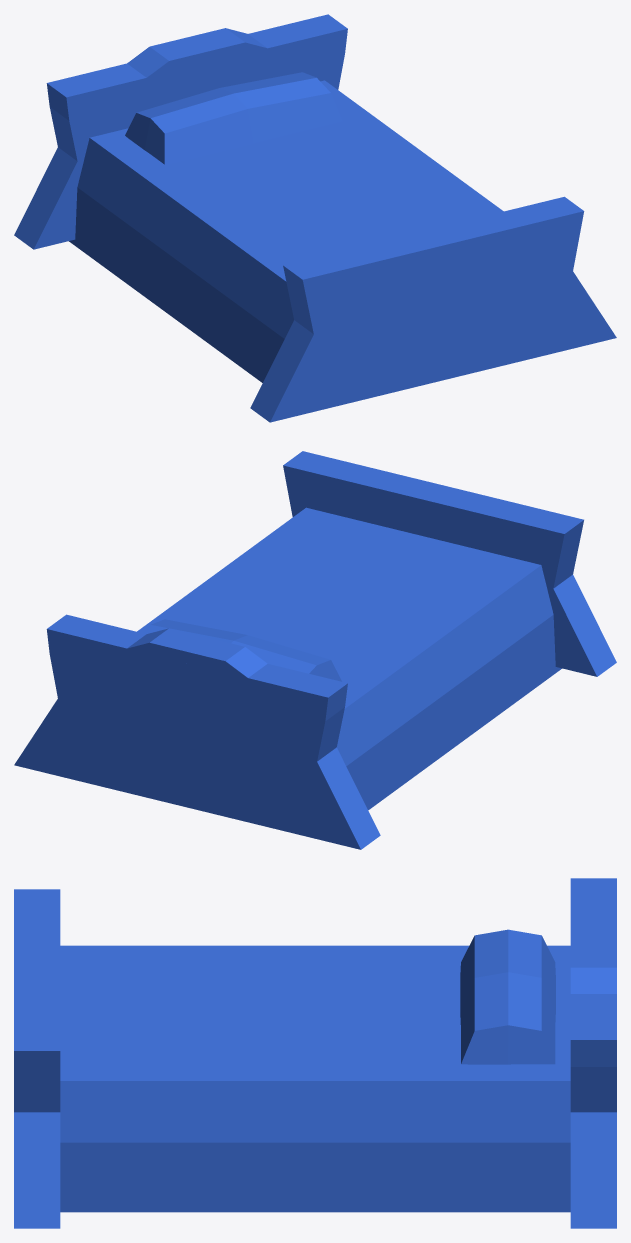
The model's file is Collision_Bed_Twin1.fbx.
3 renders of one model, top to bottom at view 1: azimuth 30°, elevation 25°; view 2: azimuth 150°, elevation 25°; view 3: azimuth 270°, elevation 25°, orthographic. The views are drawn at different scales.
Parts seen in each view (by area): view 1: UCX_Bed_Twin1_05, UCX_Bed_Twin1_02, UCX_Bed_Twin1_01, UCX_Bed_Twin1_03, UCX_Bed_Twin1_06, UCX_Bed_Twin1_04, UCX_Bed_Twin1_07; view 2: UCX_Bed_Twin1_05, UCX_Bed_Twin1_04, UCX_Bed_Twin1_03, UCX_Bed_Twin1_01, UCX_Bed_Twin1_02, UCX_Bed_Twin1_07, UCX_Bed_Twin1_06; view 3: UCX_Bed_Twin1_05, UCX_Bed_Twin1_06, UCX_Bed_Twin1_01, UCX_Bed_Twin1_03, UCX_Bed_Twin1_02, UCX_Bed_Twin1_04, UCX_Bed_Twin1_07.
Part boxes in pixels (x1=…): UCX_Bed_Twin1_05: x1=69, y1=80, x2=503, y2=382; UCX_Bed_Twin1_02: x1=250, y1=271, x2=616, y2=422; UCX_Bed_Twin1_01: x1=283, y1=196, x2=584, y2=334; UCX_Bed_Twin1_03: x1=46, y1=14, x2=347, y2=161; UCX_Bed_Twin1_06: x1=125, y1=72, x2=342, y2=164; UCX_Bed_Twin1_04: x1=14, y1=147, x2=83, y2=249; UCX_Bed_Twin1_07: x1=127, y1=28, x2=267, y2=77; UCX_Bed_Twin1_05: x1=137, y1=507, x2=561, y2=810; UCX_Bed_Twin1_04: x1=14, y1=698, x2=380, y2=849; UCX_Bed_Twin1_03: x1=46, y1=614, x2=347, y2=761; UCX_Bed_Twin1_01: x1=283, y1=451, x2=583, y2=588; UCX_Bed_Twin1_02: x1=547, y1=574, x2=616, y2=676; UCX_Bed_Twin1_07: x1=127, y1=628, x2=267, y2=677; UCX_Bed_Twin1_06: x1=143, y1=619, x2=341, y2=681; UCX_Bed_Twin1_05: x1=60, y1=945, x2=570, y2=1212; UCX_Bed_Twin1_06: x1=460, y1=929, x2=555, y2=1064; UCX_Bed_Twin1_01: x1=14, y1=889, x2=60, y2=1112; UCX_Bed_Twin1_03: x1=570, y1=878, x2=616, y2=1112; UCX_Bed_Twin1_02: x1=14, y1=1112, x2=60, y2=1228; UCX_Bed_Twin1_04: x1=570, y1=1112, x2=616, y2=1228; UCX_Bed_Twin1_07: x1=570, y1=924, x2=616, y2=993.
Size of the model in its own units: 189 by 84.09 by 241.
